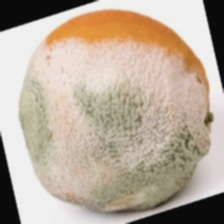orange: (27, 46, 224, 187)
